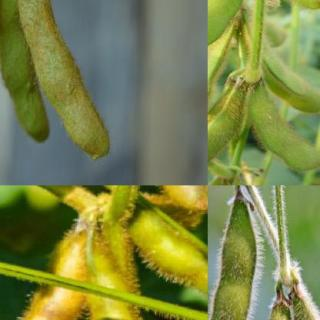soya: (22, 0, 109, 158), (0, 0, 49, 144), (3, 235, 87, 319), (130, 213, 207, 302), (248, 86, 320, 171), (208, 204, 255, 319), (86, 235, 143, 319), (208, 86, 248, 174), (266, 49, 320, 110), (208, 26, 235, 116), (208, 0, 248, 51)
